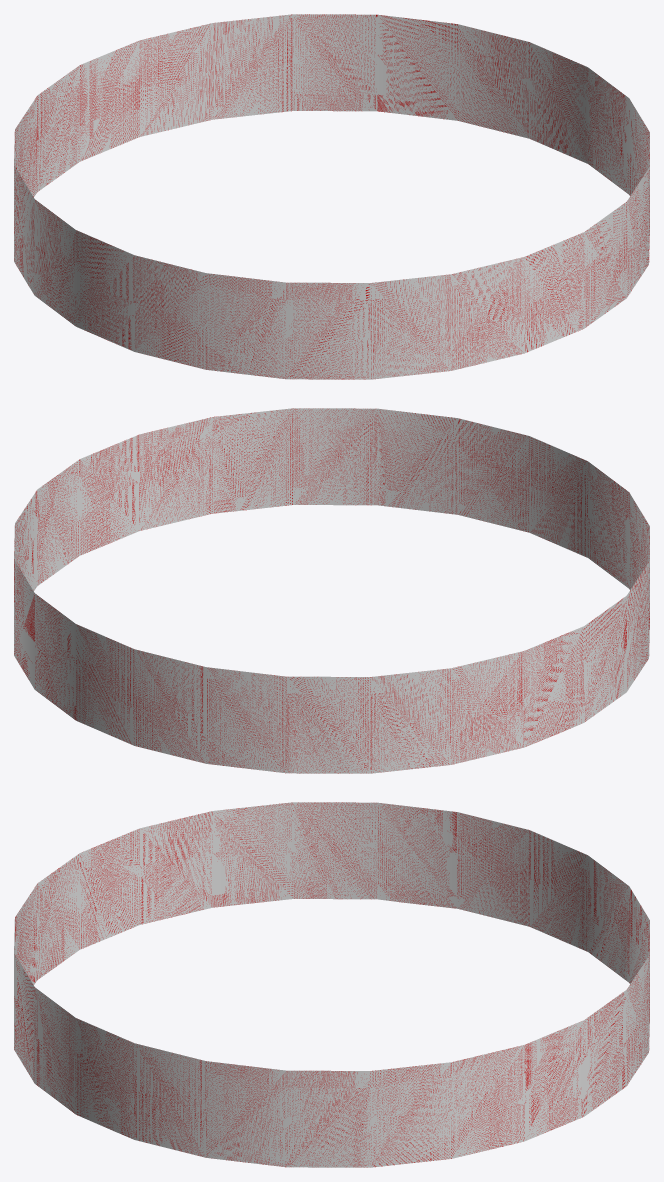
The model's file is original-7.obj.
3 views of the same model, one above another, from view 1: azimuth 30°, elevation 25°; view 2: azimuth 150°, elevation 25°; view 3: azimuth 270°, elevation 25° (orthographic).
Parts seen in each view (by area): view 1: #ID28; view 2: #ID28; view 3: #ID28.
Part boxes in pixels (bbox=[...]): #ID28: bbox=[14, 14, 649, 379]; #ID28: bbox=[14, 408, 649, 773]; #ID28: bbox=[14, 802, 649, 1167].
Bounding box in the file's own units: 0.3212 × 0.0541 × 0.3212.
